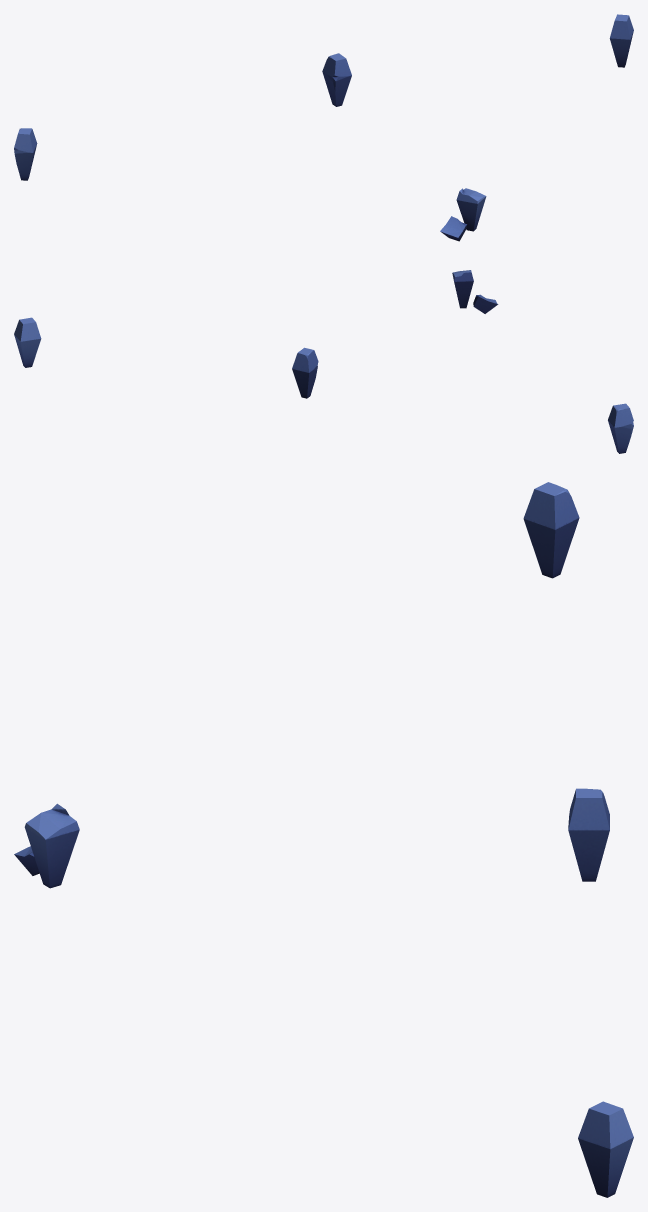
The model's file is Crystal_01.FBX.
3 views of the same model, one above another, from view 1: azimuth 30°, elevation 25°; view 2: azimuth 150°, elevation 25°; view 3: azimuth 270°, elevation 25° (orthographic). The views are drawn at different scales.
Parts seen in each view (by area): view 1: Crystal_01; view 2: Crystal_01; view 3: Crystal_01.
Boxes of the visible parts, bbox=[...] form: Crystal_01: bbox=[14, 14, 633, 241]; Crystal_01: bbox=[14, 270, 633, 453]; Crystal_01: bbox=[14, 482, 633, 1197].
Bounding box in the file's own units: 34.17 × 4.88 × 16.08.
